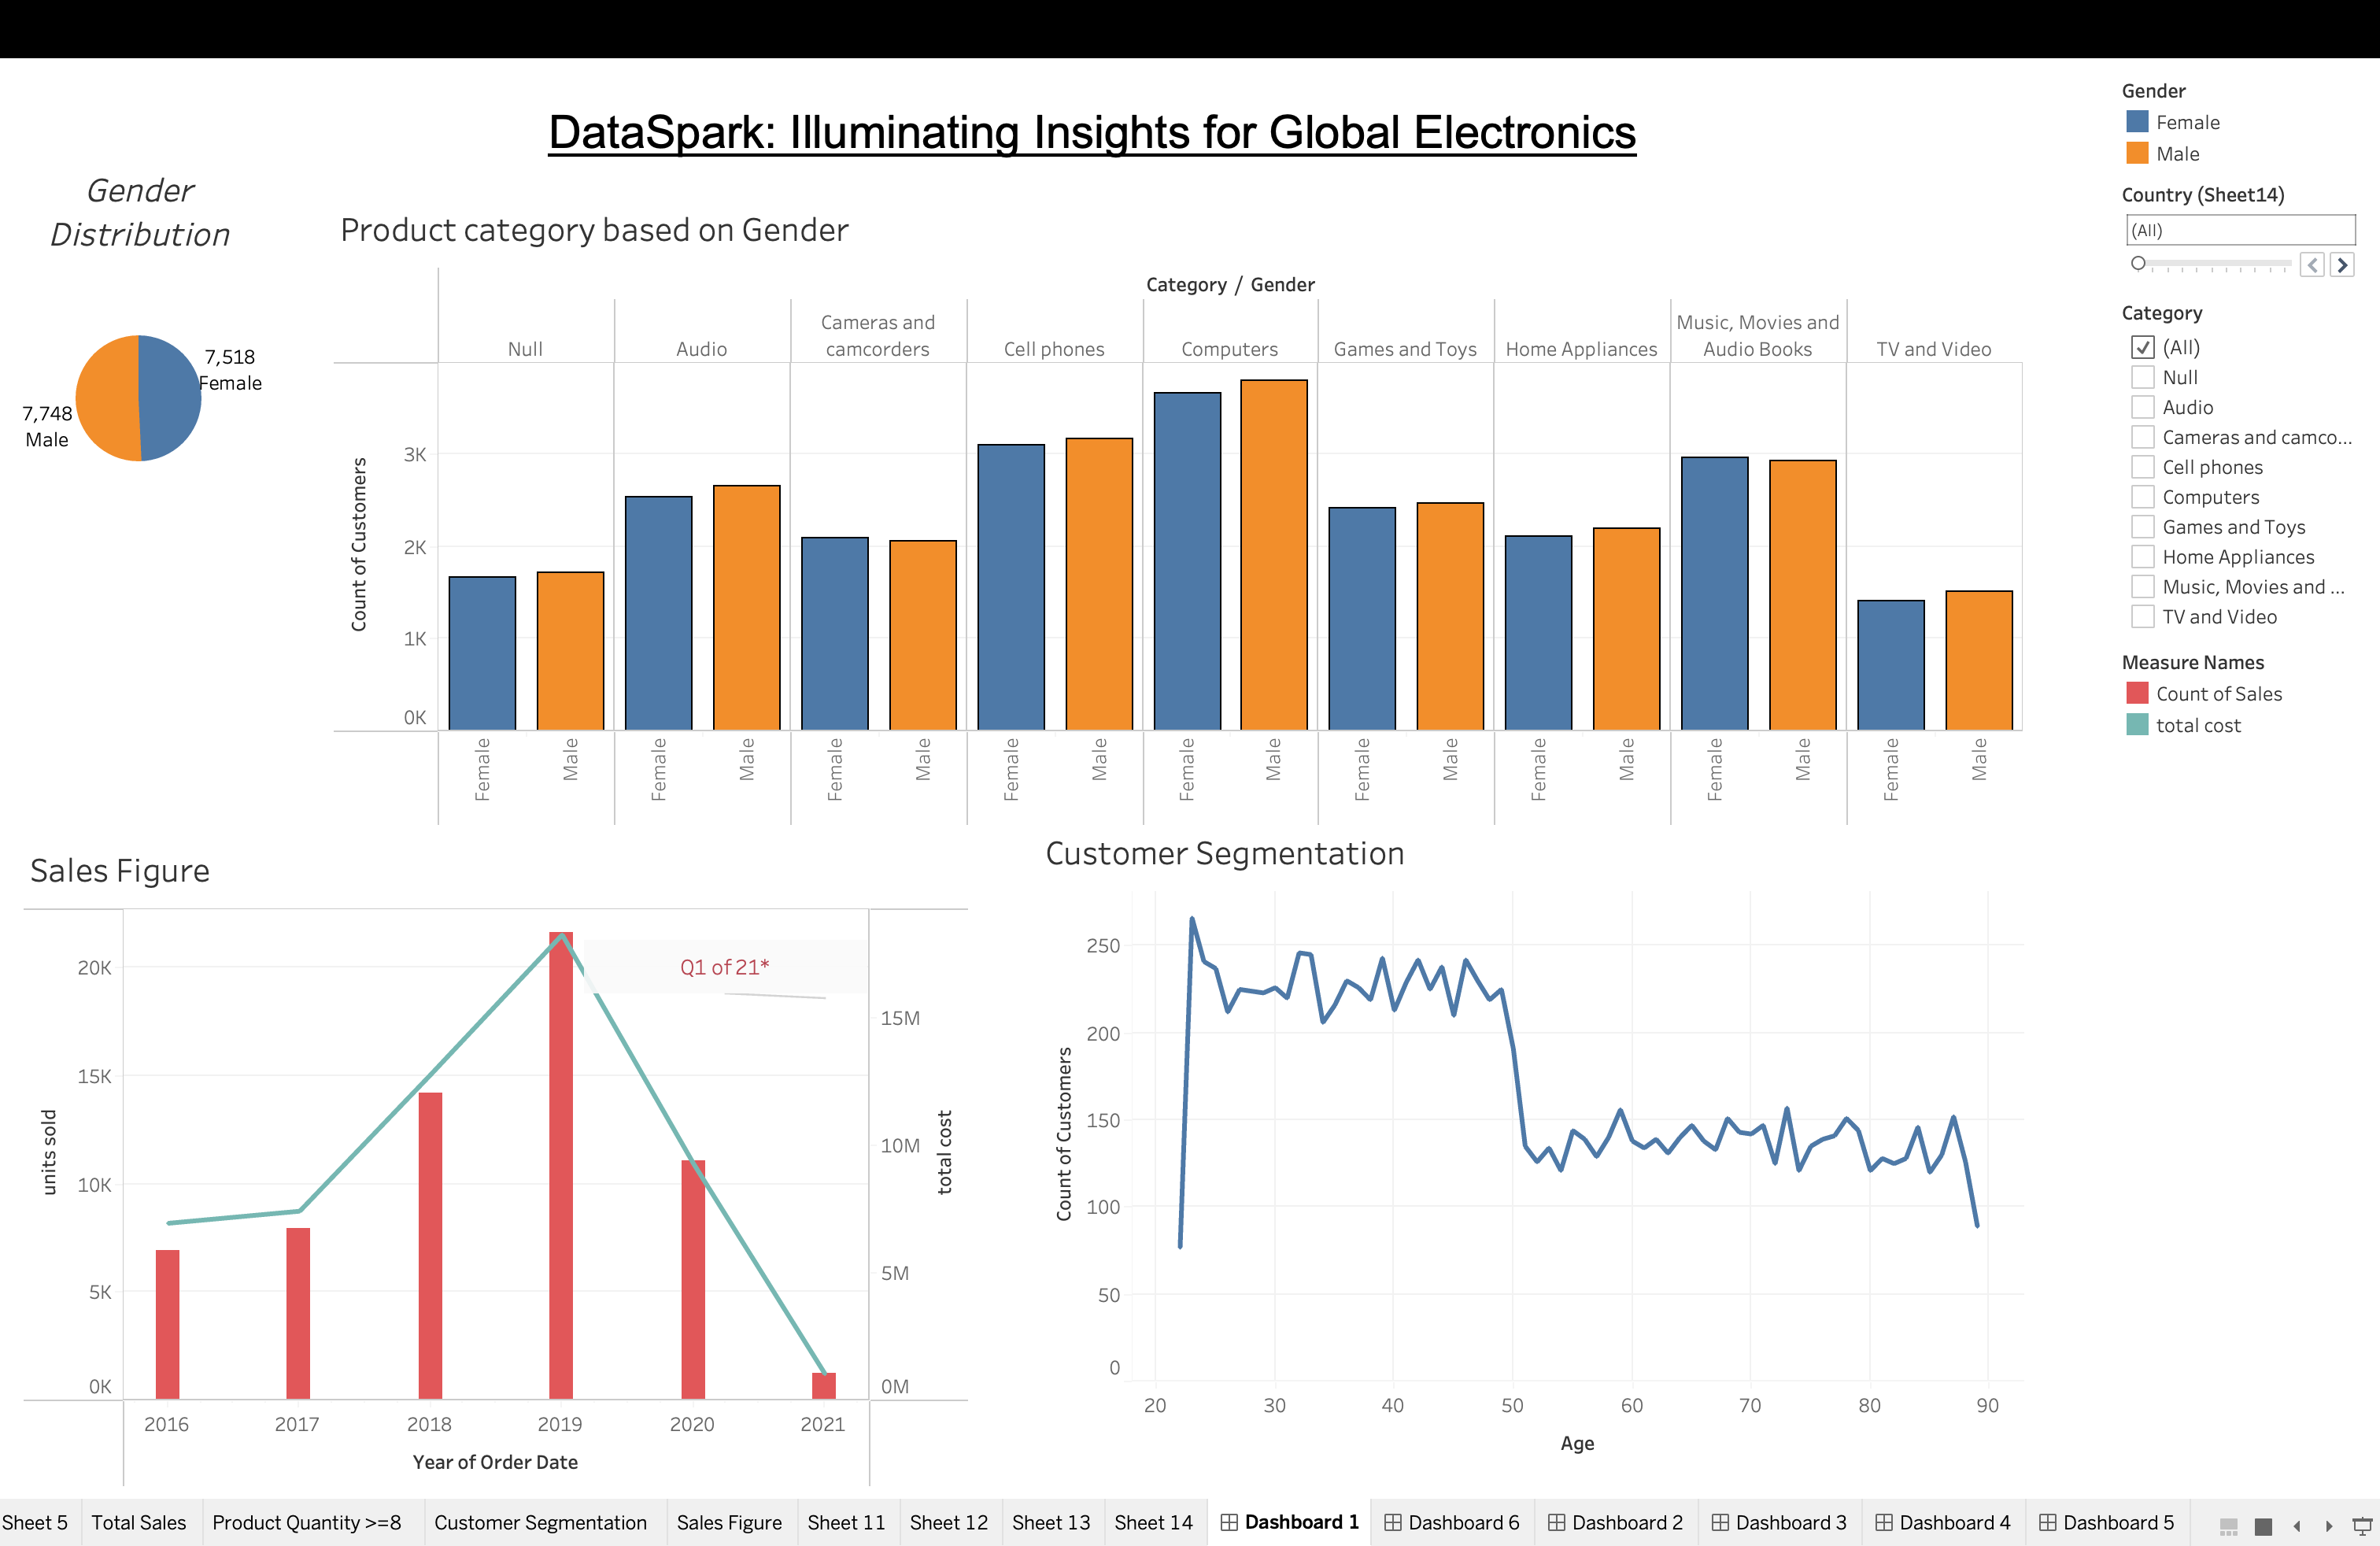

What the dashboard file says about the page in this screenshot:
{"tool":"tableau","page":{"name":"Dashboard 1","canvas":[1000,1000],"units":"permille","ordinal":0},"visuals":[{"type":"legend","title":"Gender Distribution","param":"[federated.02uo9zm0smolzs15m8jjv1oq37fc].[none:Gender:nk]","box":[888.9,8.7,105.8,72.1]},{"type":"worksheet","title":"Gender Distribution","mark":"Pie","box":[5,70.8,161.7,375]},{"type":"filter","title":"Gender Distribution","param":"[federated.02uo9zm0smolzs15m8jjv1oq37fc].[none:Country (Sheet14):nk]","box":[888.9,80.9,105.8,82]},{"type":"worksheet","title":"Product category based on Gender","mark":"Automatic","rows":["Sheet1_47694D3059524B67A653B8EE4F06AE08"],"cols":["Category","Gender"],"box":[140,97.9,710,435.2]},{"type":"filter","title":"Customer Segmentation","param":"[federated.02uo9zm0smolzs15m8jjv1oq37fc].[none:Category:nk]","box":[888.9,162.8,105.8,242.6]},{"type":"legend","title":"Sales Figure","param":"[federated.02uo9zm0smolzs15m8jjv1oq37fc].[:Measure Names]","box":[888.9,405.4,105.8,72.1]},{"type":"worksheet","title":"Customer Segmentation","mark":"Automatic","rows":["Sheet1_47694D3059524B67A653B8EE4F06AE08"],"cols":["Calculation_2993416073364160517"],"box":[436.7,531.6,414.2,447.3]},{"type":"worksheet","title":"Sales Figure","mark":"Automatic","rows":["Sheet1_CFE7167ED5EA49ED95C24D7CA02DA342","Calculation_2993416072364625923"],"cols":["Order Date"],"box":[10,543.7,397.5,448.8]}]}

Visuals, with their boxes on the dashboard's canvas, which has no fixed pixel size, in thousandths of its width and height (x1, y1, x2, y2). These are canvas units, not pixel positions in the 2380x1546 screenshot, which may show the page scaled, cropped or inside an application window:
"Gender Distribution" legend: left=889, top=9, right=995, bottom=81
"Gender Distribution" worksheet (Pie marks): left=5, top=71, right=167, bottom=446
"Gender Distribution" filter: left=889, top=81, right=995, bottom=163
"Product category based on Gender" worksheet: left=140, top=98, right=850, bottom=533
"Customer Segmentation" filter: left=889, top=163, right=995, bottom=405
"Sales Figure" legend: left=889, top=405, right=995, bottom=478
"Customer Segmentation" worksheet: left=437, top=532, right=851, bottom=979
"Sales Figure" worksheet: left=10, top=544, right=408, bottom=992
